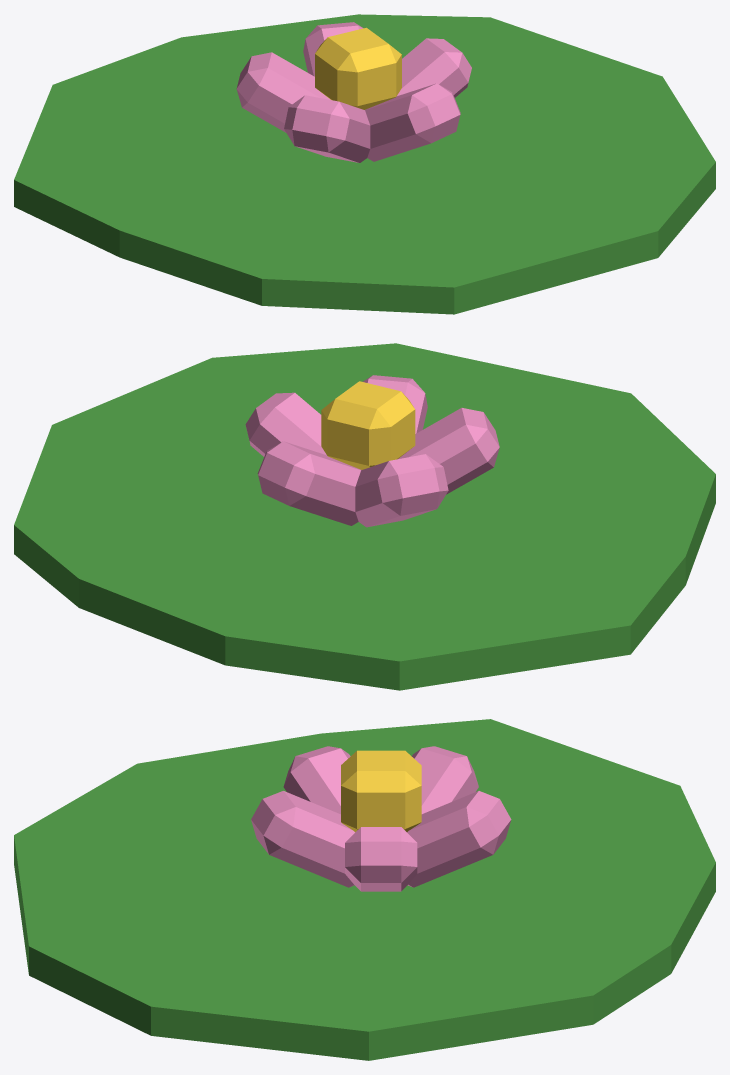
Rendered from LilyPad.fbx.
3 renders of one model, top to bottom at view 1: azimuth 30°, elevation 25°; view 2: azimuth 150°, elevation 25°; view 3: azimuth 270°, elevation 25°, orthographic. The views are drawn at different scales.
Visible parts, largest first — view 1: Pad, Flower, Middle; view 2: Pad, Flower, Middle; view 3: Pad, Flower, Middle.
Boxes of the visible parts, <box> form: Pad: <box>14,14,715,314</box>; Flower: <box>236,22,471,162</box>; Middle: <box>315,27,401,109</box>; Pad: <box>14,343,715,690</box>; Flower: <box>245,375,499,527</box>; Middle: <box>321,381,415,469</box>; Pad: <box>14,719,715,1060</box>; Flower: <box>251,746,511,891</box>; Middle: <box>341,750,421,832</box>.
Bounding box in the file's own units: 1.84 × 0.39 × 1.74.
